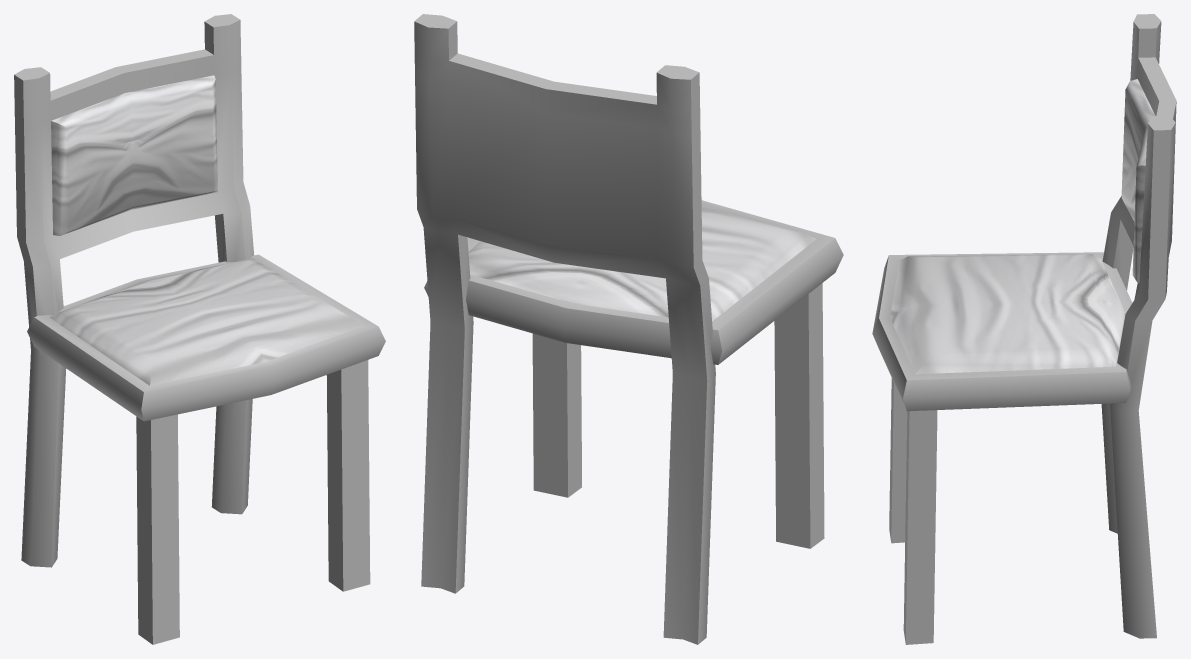
Rendered from chair.fbx.
The picture shows the model from 3 angles, left to right: view 1: azimuth 30°, elevation 25°; view 2: azimuth 150°, elevation 25°; view 3: azimuth 270°, elevation 25°; orthographic projection. The views are drawn at different scales.
Visible parts, largest first — view 1: Cube.040; view 2: Cube.040; view 3: Cube.040.
Part boxes in pixels (<box>): Cube.040: <box>14,14,385,644</box>; Cube.040: <box>414,14,843,644</box>; Cube.040: <box>872,14,1176,644</box>.
Size of the model in its own units: 159 by 283 by 153.
